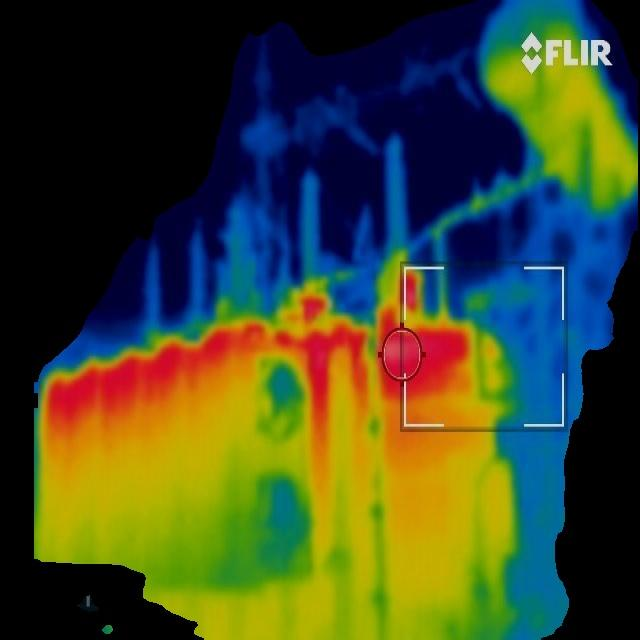Full Wire Overload PF: (394, 162, 559, 246)
Loose Joint F: (378, 260, 426, 319), (282, 282, 338, 324)
Transformer Overload: (41, 321, 513, 637)
